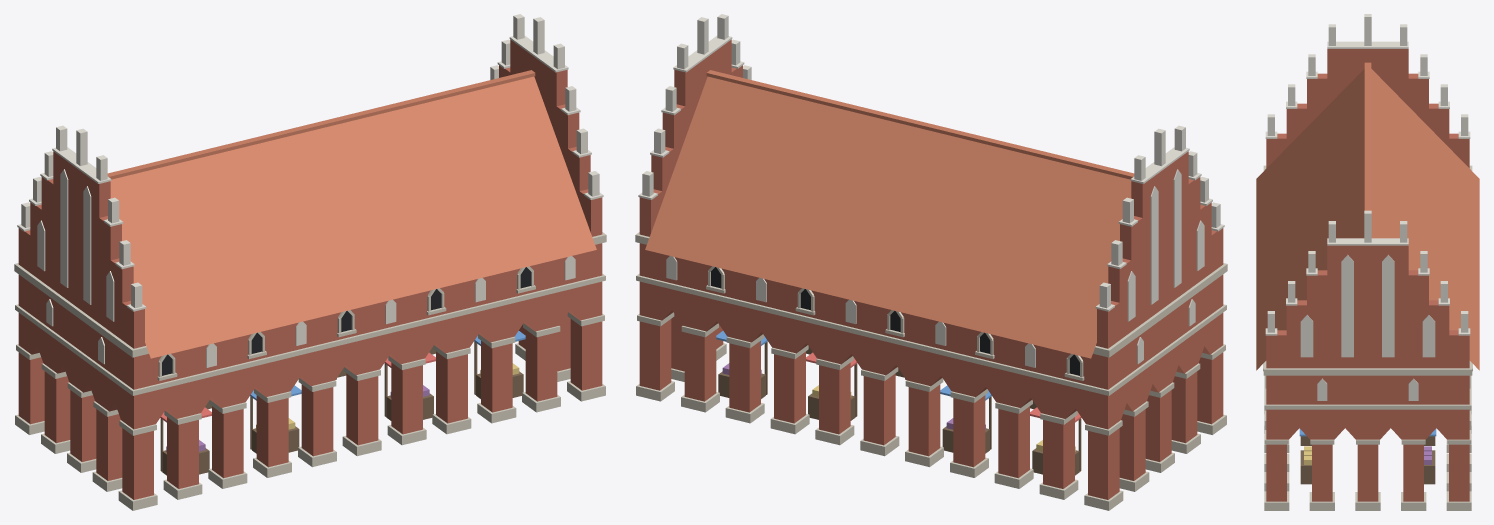
Rendered from szmatruz.glb.
3 renders of one model, left to right at view 1: azimuth 30°, elevation 25°; view 2: azimuth 150°, elevation 25°; view 3: azimuth 270°, elevation 25°, orthographic. The views are drawn at different scales.
Parts seen in each view (by area): view 1: Szmatruz; view 2: Szmatruz; view 3: Szmatruz.
Boxes of the visible parts, <box> form: Szmatruz: <box>14,14,606,510</box>; Szmatruz: <box>635,14,1227,510</box>; Szmatruz: <box>1256,14,1479,510</box>.
Bounding box in the file's own units: 21.15 × 14.28 × 9.8.
